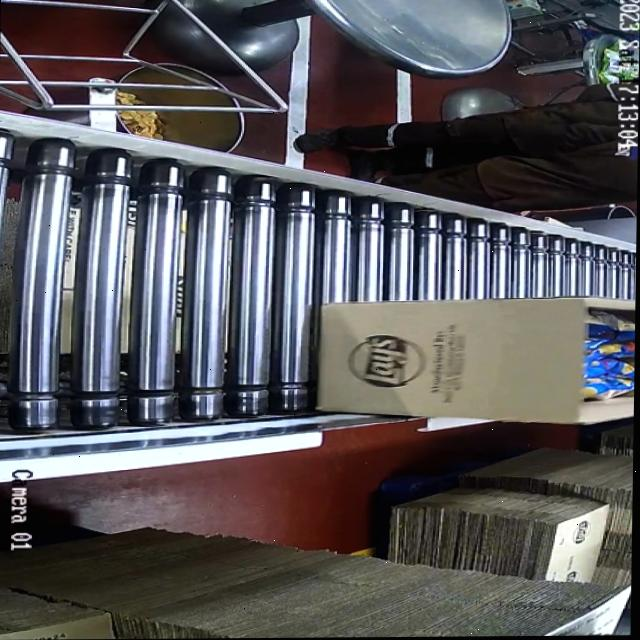PAPRIKA: (580, 313, 635, 407)
